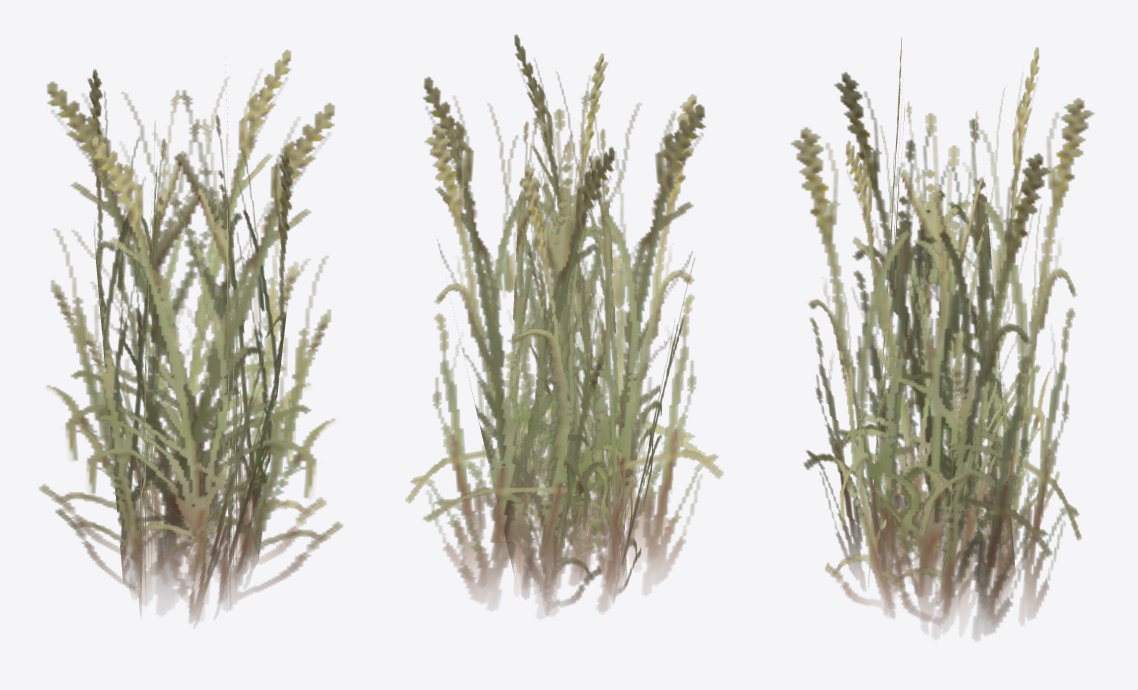
Rendered from grass-20.glb.
3 views of the same model, side by side, from view 1: azimuth 30°, elevation 25°; view 2: azimuth 150°, elevation 25°; view 3: azimuth 270°, elevation 25° (orthographic). The views are drawn at different scales.
Parts seen in each view (by area): view 1: Plane_022; view 2: Plane_022; view 3: Plane_022.
Boxes of the visible parts, bbox=[...] form: Plane_022: bbox=[39, 49, 342, 626]; Plane_022: bbox=[405, 34, 723, 615]; Plane_022: bbox=[791, 37, 1093, 640].
Bounding box in the file's own units: 2.76 × 4.63 × 2.84.
1 material, 1 textured.
